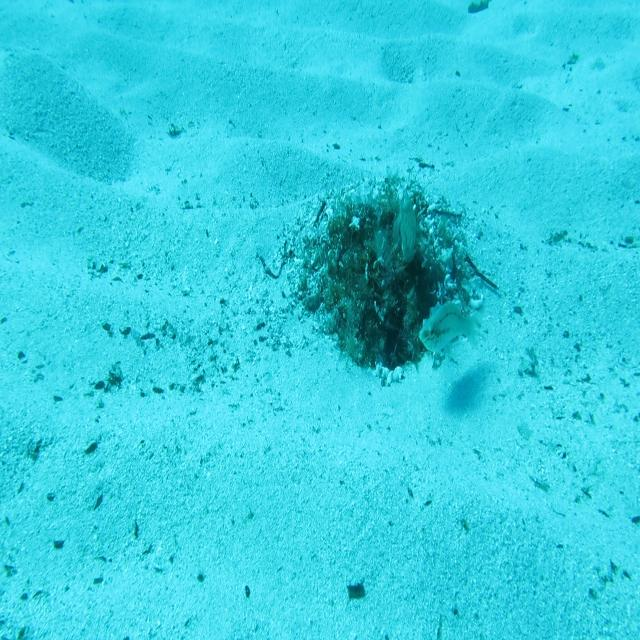NIP_IN: (394, 187, 419, 268)
core_nest: (358, 220, 409, 282)
female: (417, 299, 485, 357)
nest: (277, 164, 493, 397)
vegetation: (344, 582, 369, 600), (468, 0, 490, 15)
